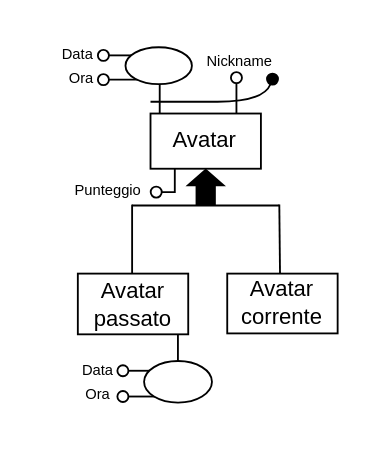
This 370x449 diagram has some shape labels left out. The box of each missing label's shape, as (x1, y1, x2, y2) in pixels:
DataCrea: (124, 45, 192, 84)
DataFine: (142, 359, 212, 403)
